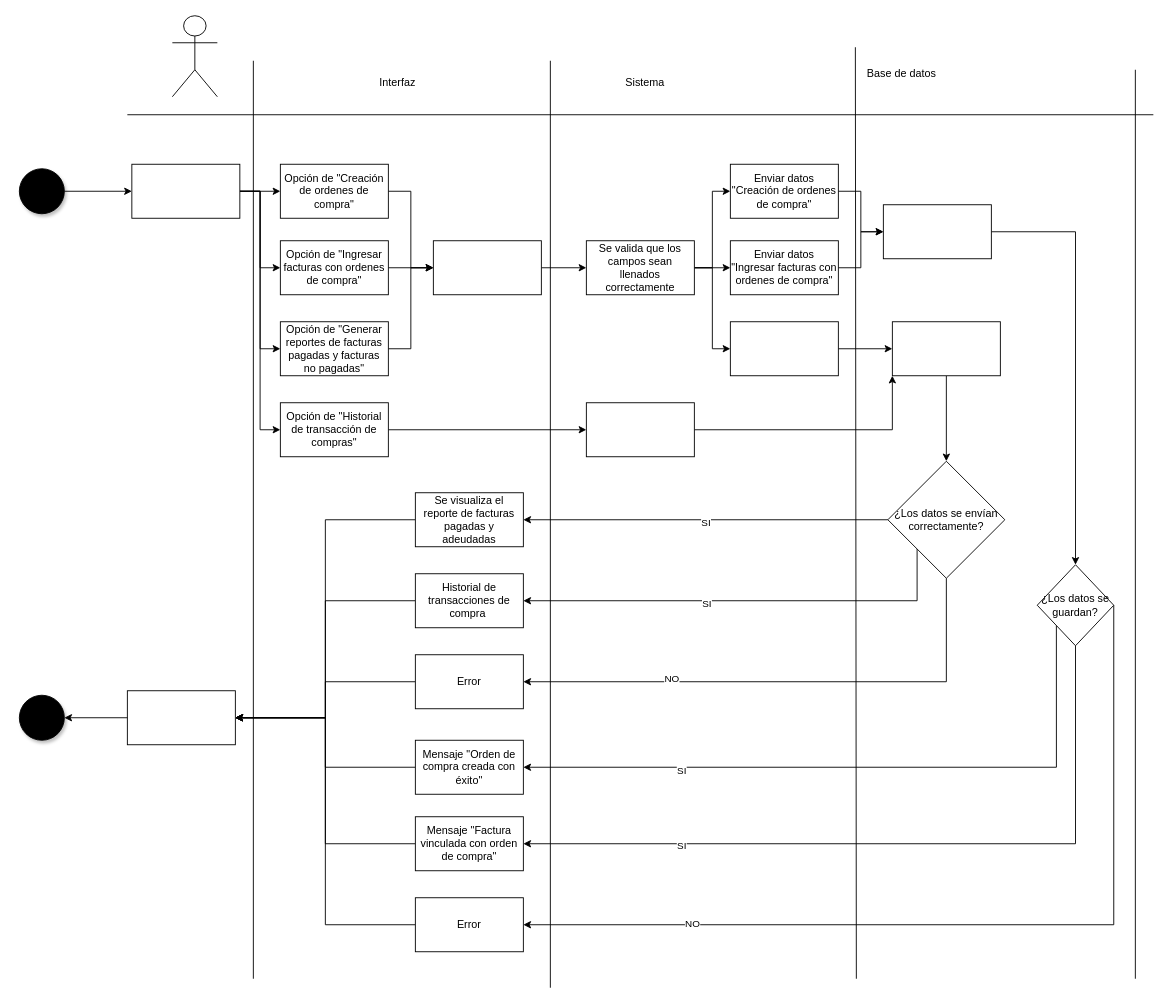
Image size: 1170x1004. Some labels were removed from this diagram. The shapes that lost their labels are listed below. From the top down, each one's centre as x and y in pixels, then its label:
pixel 194 56: Usuario
pixel 185 190: Iniciar sesión
pixel 936 231: Guardar datos
pixel 486 267: Llenar formulario
pixel 783 348: Solicitar datos "de facturas pagadas y adeudadas"
pixel 945 348: Envía datos solicitados
pixel 639 429: Solicitar datos de ""historial de compras
pixel 180 717: Cerrar Sesión
